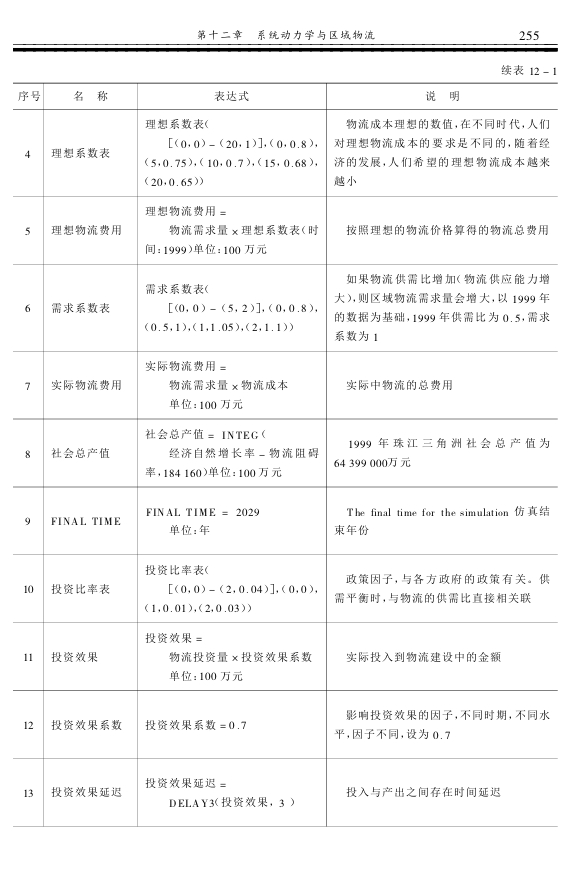table: (12, 82, 557, 827)
